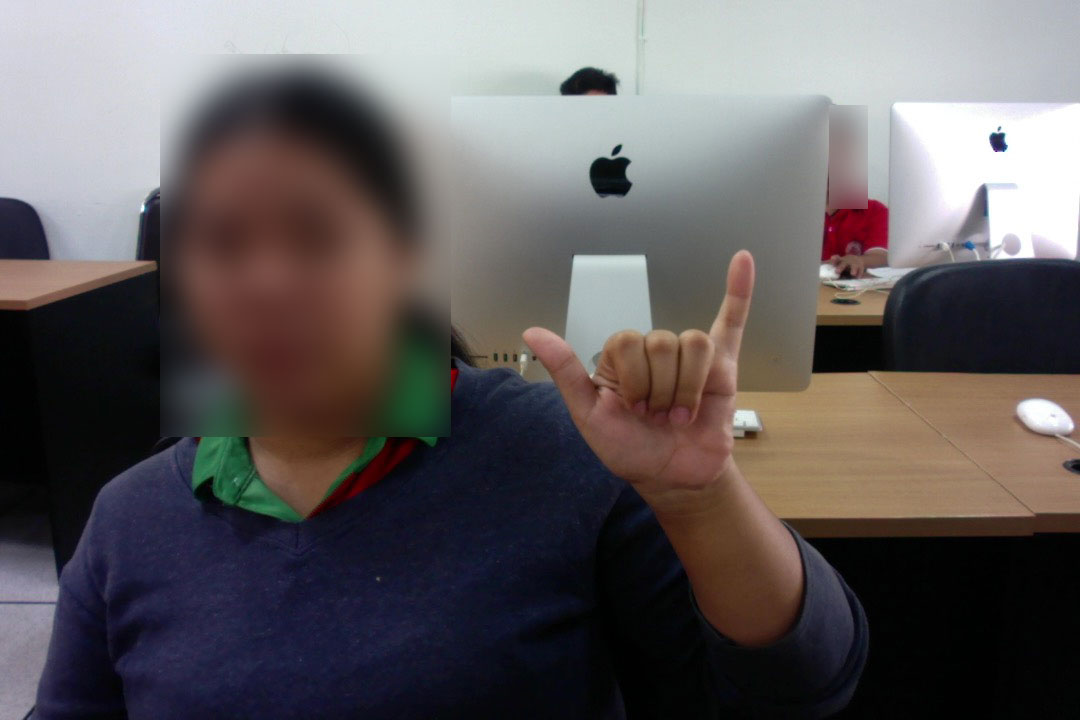yor: (511, 241, 772, 501)
